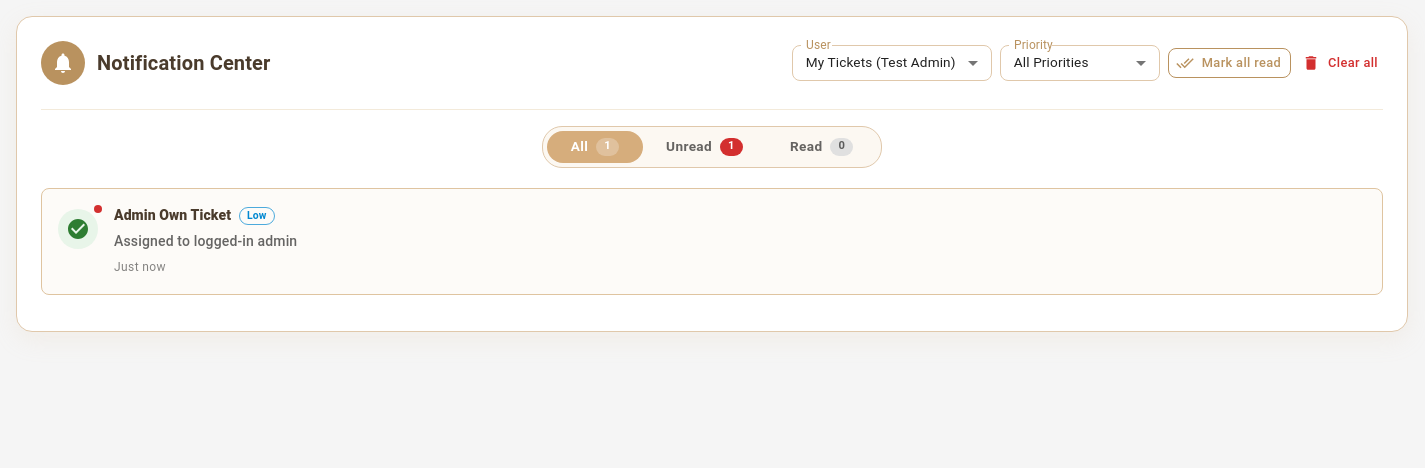
Test case: NotificationScreen Component › initially lists only the logged-in admin user tickets and filters by selected user in dropdown
The width and height of the screenshot is (1425, 468).
Later steps or results of the test are not shown.
Check: the heading "Admin Own Ticket" is shown, box left=114, top=205, right=231, bottom=227
Check: the text "Other User Ticket" is not shown
Press the mouse on the dropdown named "User": x=881, y=62 left=806, top=54, right=956, bottom=70
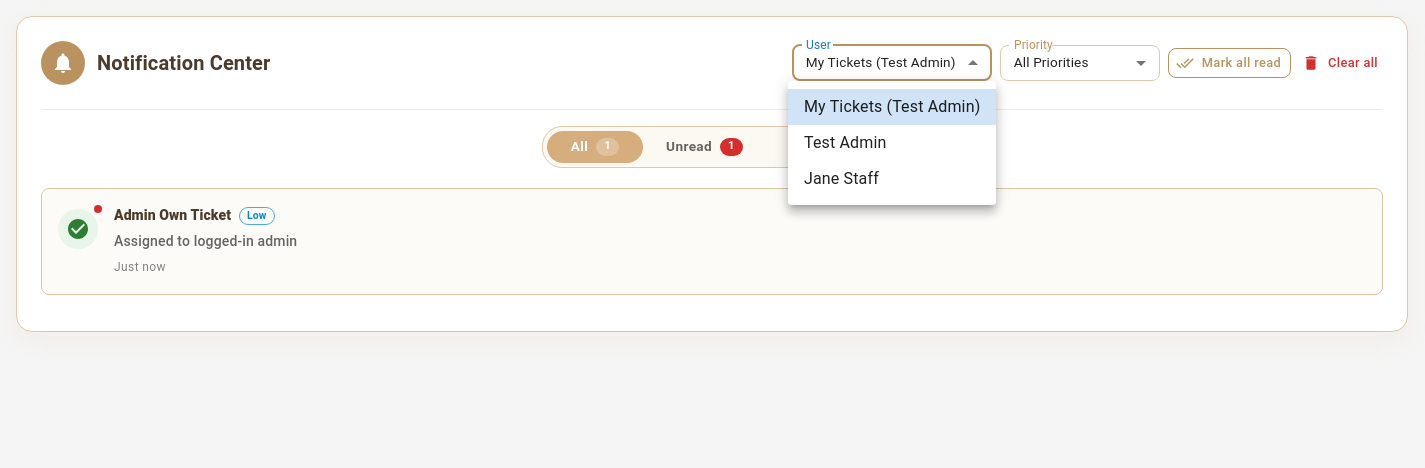
Click the option "Jane Staff": x=841, y=178 left=804, top=169, right=879, bottom=188
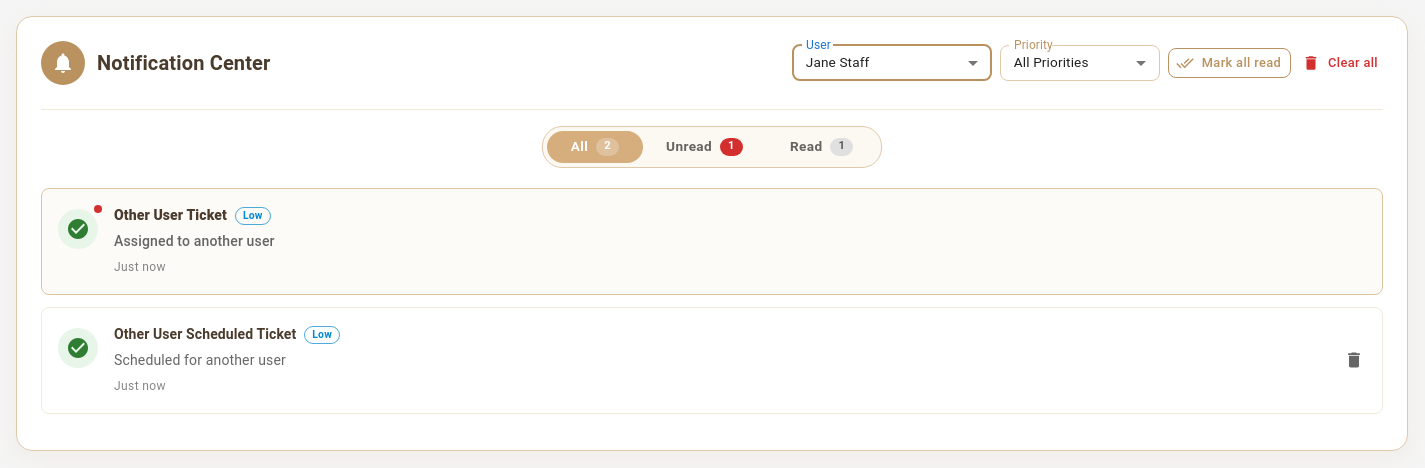
Check: the heading "Other User Ticket" is shown, box left=114, top=205, right=227, bottom=227
Check: the heading "Other User Scheduled Ticket" is shown, box left=114, top=324, right=296, bottom=346
Check: the heading "Admin Own Ticket" is gone
